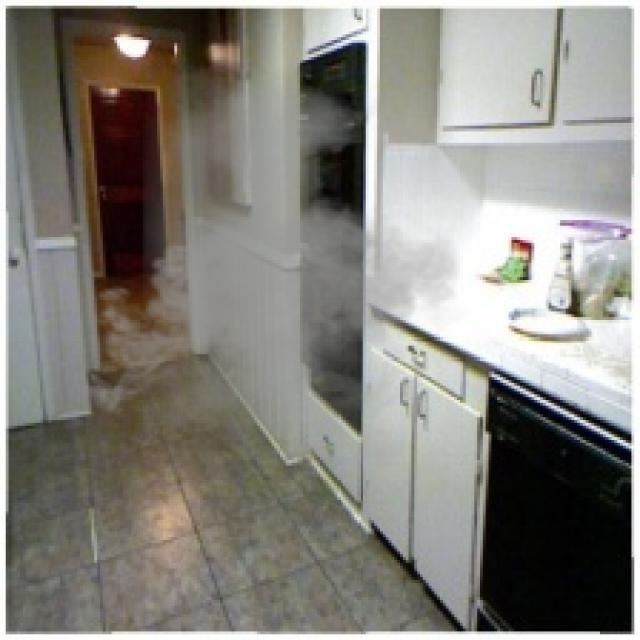smoke: (72, 66, 477, 468)
